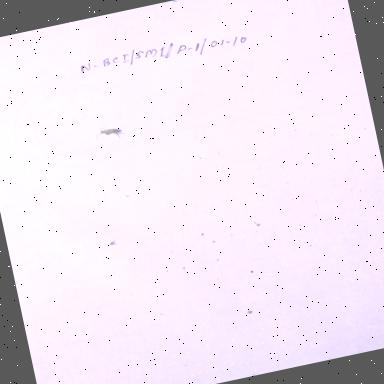pbw: (90, 120, 129, 144)
